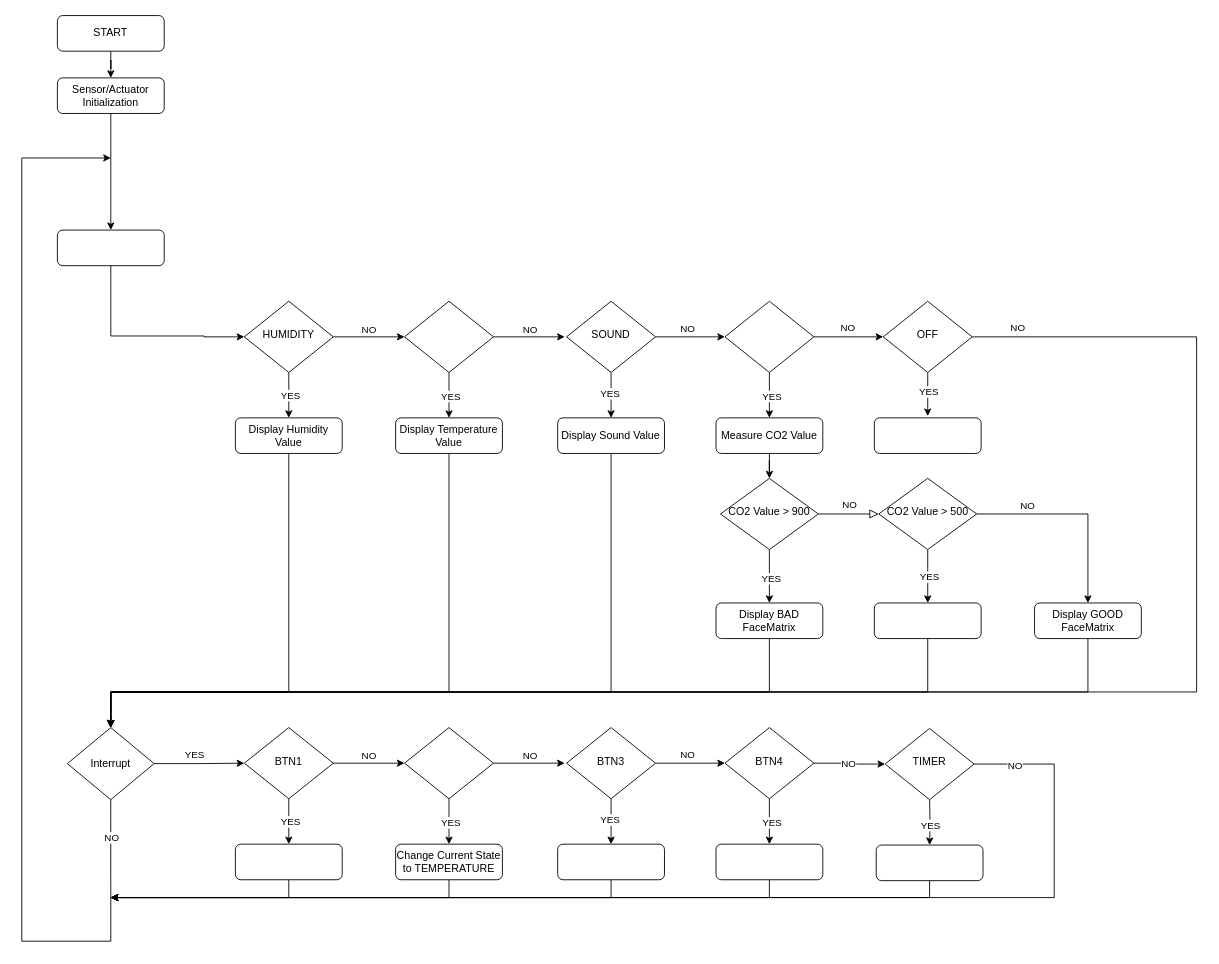
Image size: 1219x964. Some labels were removed from this diagram. Each missing label, with the box of its shape:
BTN2: (404, 727, 494, 799)
Change Current State to CO2: (557, 843, 664, 880)
Change Current State to HUMIDITY: (235, 843, 342, 880)
Change Current State to SOUND: (715, 843, 823, 880)
Check Current State: (57, 229, 164, 266)
CO2: (724, 300, 814, 372)
Display NORMAL FaceMatrix: (873, 602, 981, 639)
Send Humidity Value to BLE: (875, 844, 983, 881)
TEMPERATURE: (404, 300, 494, 372)
Turn Display & TIMER Off: (873, 417, 981, 453)
